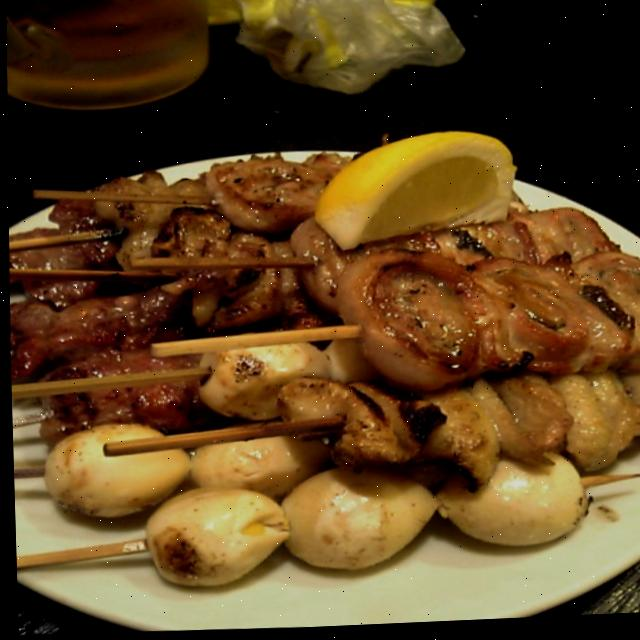烧串烤肉: (3, 124, 640, 613)
